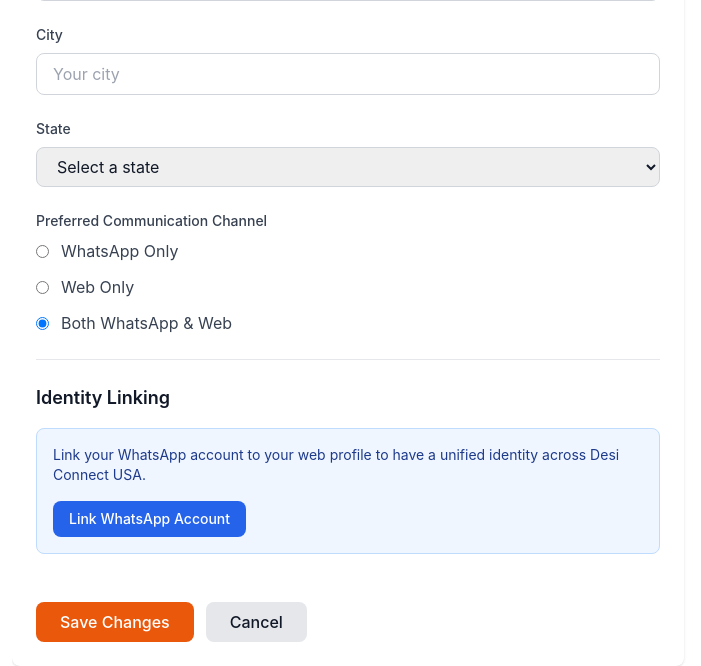
Test: Profile Settings Page › should display error message on update failure
This screenshot has width=701, height=666.
(page scrolled)
Click the button "Save Changes" at (115,622), box [36,602,194,642]
(page scrolled)
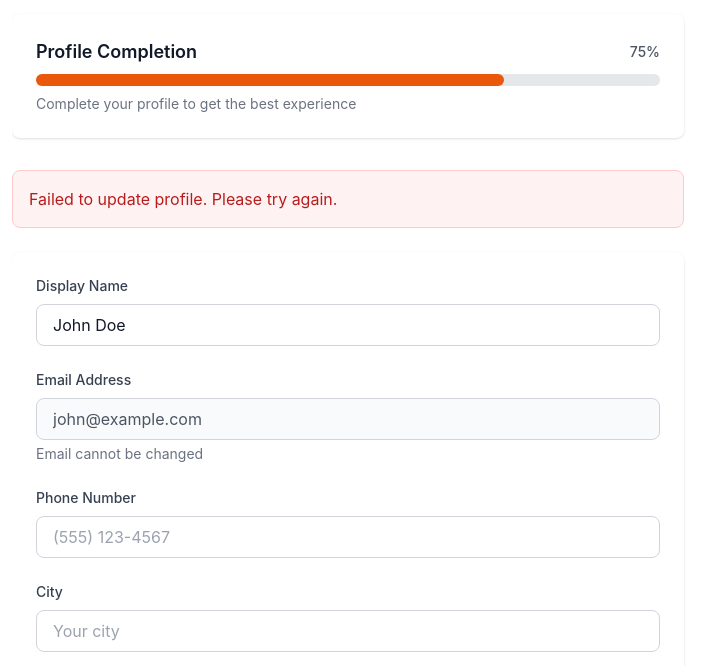
Expected: the text "Failed to update profile. Please try again." is shown, [12,170,684,228]
